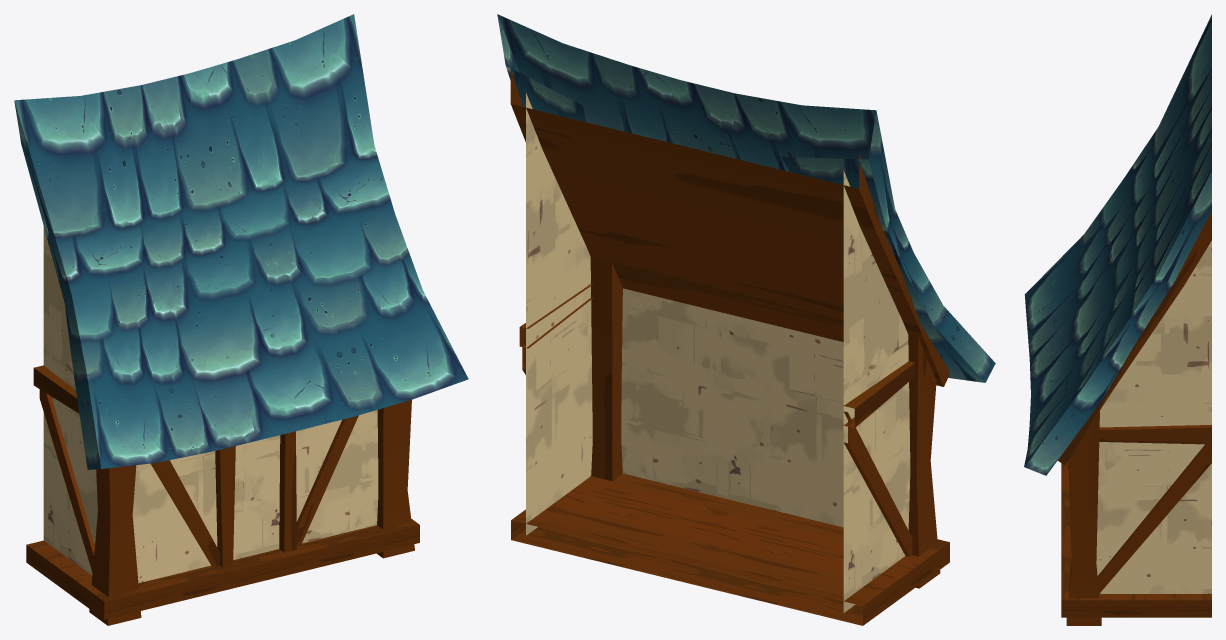
Rendered from SM_BLD_body_add_v01_01.fbx.
3 renders of one model, left to right at view 1: azimuth 30°, elevation 25°; view 2: azimuth 150°, elevation 25°; view 3: azimuth 270°, elevation 25°, orthographic. The views are drawn at different scales.
Visible parts, largest first — view 1: SM_BLD_body_add_v01_01; view 2: SM_BLD_body_add_v01_01; view 3: SM_BLD_body_add_v01_01.
Boxes of the visible parts, x1,y1,x2,y2 form: SM_BLD_body_add_v01_01: (14, 14, 468, 625); SM_BLD_body_add_v01_01: (497, 14, 995, 625); SM_BLD_body_add_v01_01: (1024, 14, 1211, 625).
Size of what is drawn, in the model's own units: 380 by 467 by 172.
